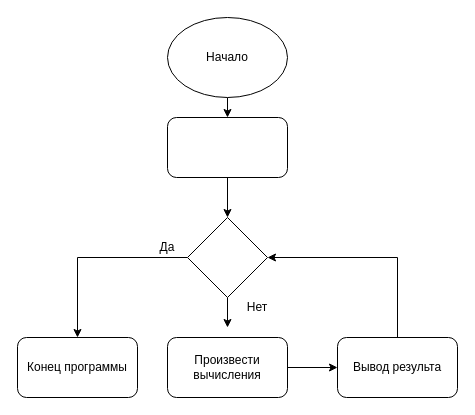
Some shapes in this 475 by 415 pixel diagram are drawn without their labels. Each missing label, with the centre of its shape:
"Вычисления закончены" goes at (x=227, y=257).
"Записать данные в переменные" goes at (x=227, y=147).
